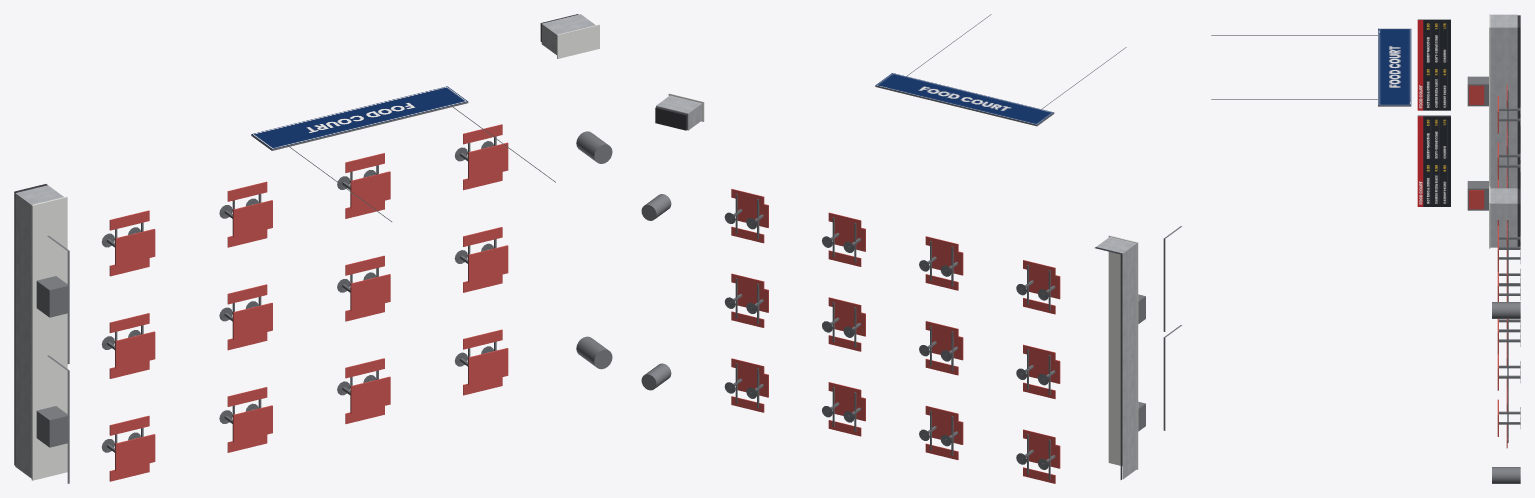
Rendered from front_food.gltf.
3 views of the same model, side by side, from view 1: azimuth 30°, elevation 25°; view 2: azimuth 150°, elevation 25°; view 3: azimuth 270°, elevation 25° (orthographic). The views are drawn at different scales.
Parts seen in each view (by area): view 1: front_food; view 2: front_food; view 3: front_food.
Boxes of the visible parts, bbox=[...] form: front_food: bbox=[14, 14, 612, 483]; front_food: bbox=[641, 14, 1181, 483]; front_food: bbox=[1211, 14, 1520, 483].
Bounding box in the file's own units: 18.08 × 10.85 × 10.2.
Materials: 9 (4 with a texture image).
